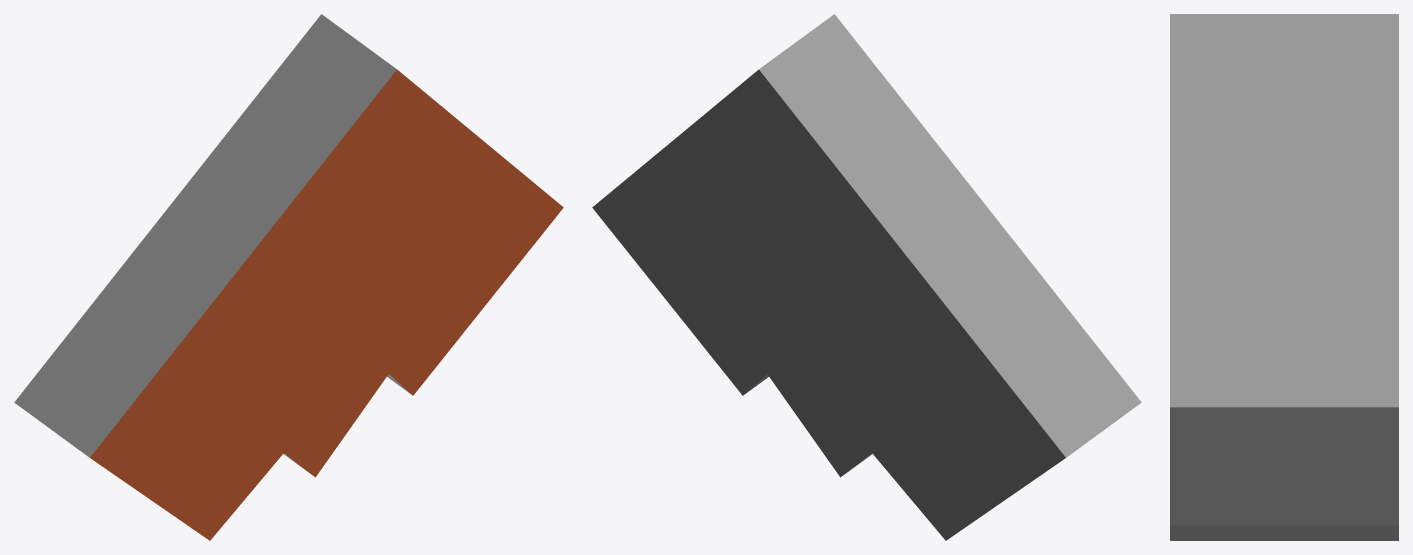
Rendered from construction_3617_assumed_A_Casa_h6m.obj.
3 renders of one model, left to right at view 1: azimuth 30°, elevation 25°; view 2: azimuth 150°, elevation 25°; view 3: azimuth 270°, elevation 25°, orthographic. The views are drawn at different scales.
Parts seen in each view (by area): view 1: construction_3617_assumed_A_Casa; view 2: construction_3617_assumed_A_Casa; view 3: construction_3617_assumed_A_Casa.
Boxes of the visible parts, x1=… form: construction_3617_assumed_A_Casa: x1=14, y1=14, x2=563, y2=540; construction_3617_assumed_A_Casa: x1=592, y1=14, x2=1141, y2=540; construction_3617_assumed_A_Casa: x1=1170, y1=14, x2=1398, y2=540.
Bounding box in the file's own units: 21.7 × 18.64 × 6.
